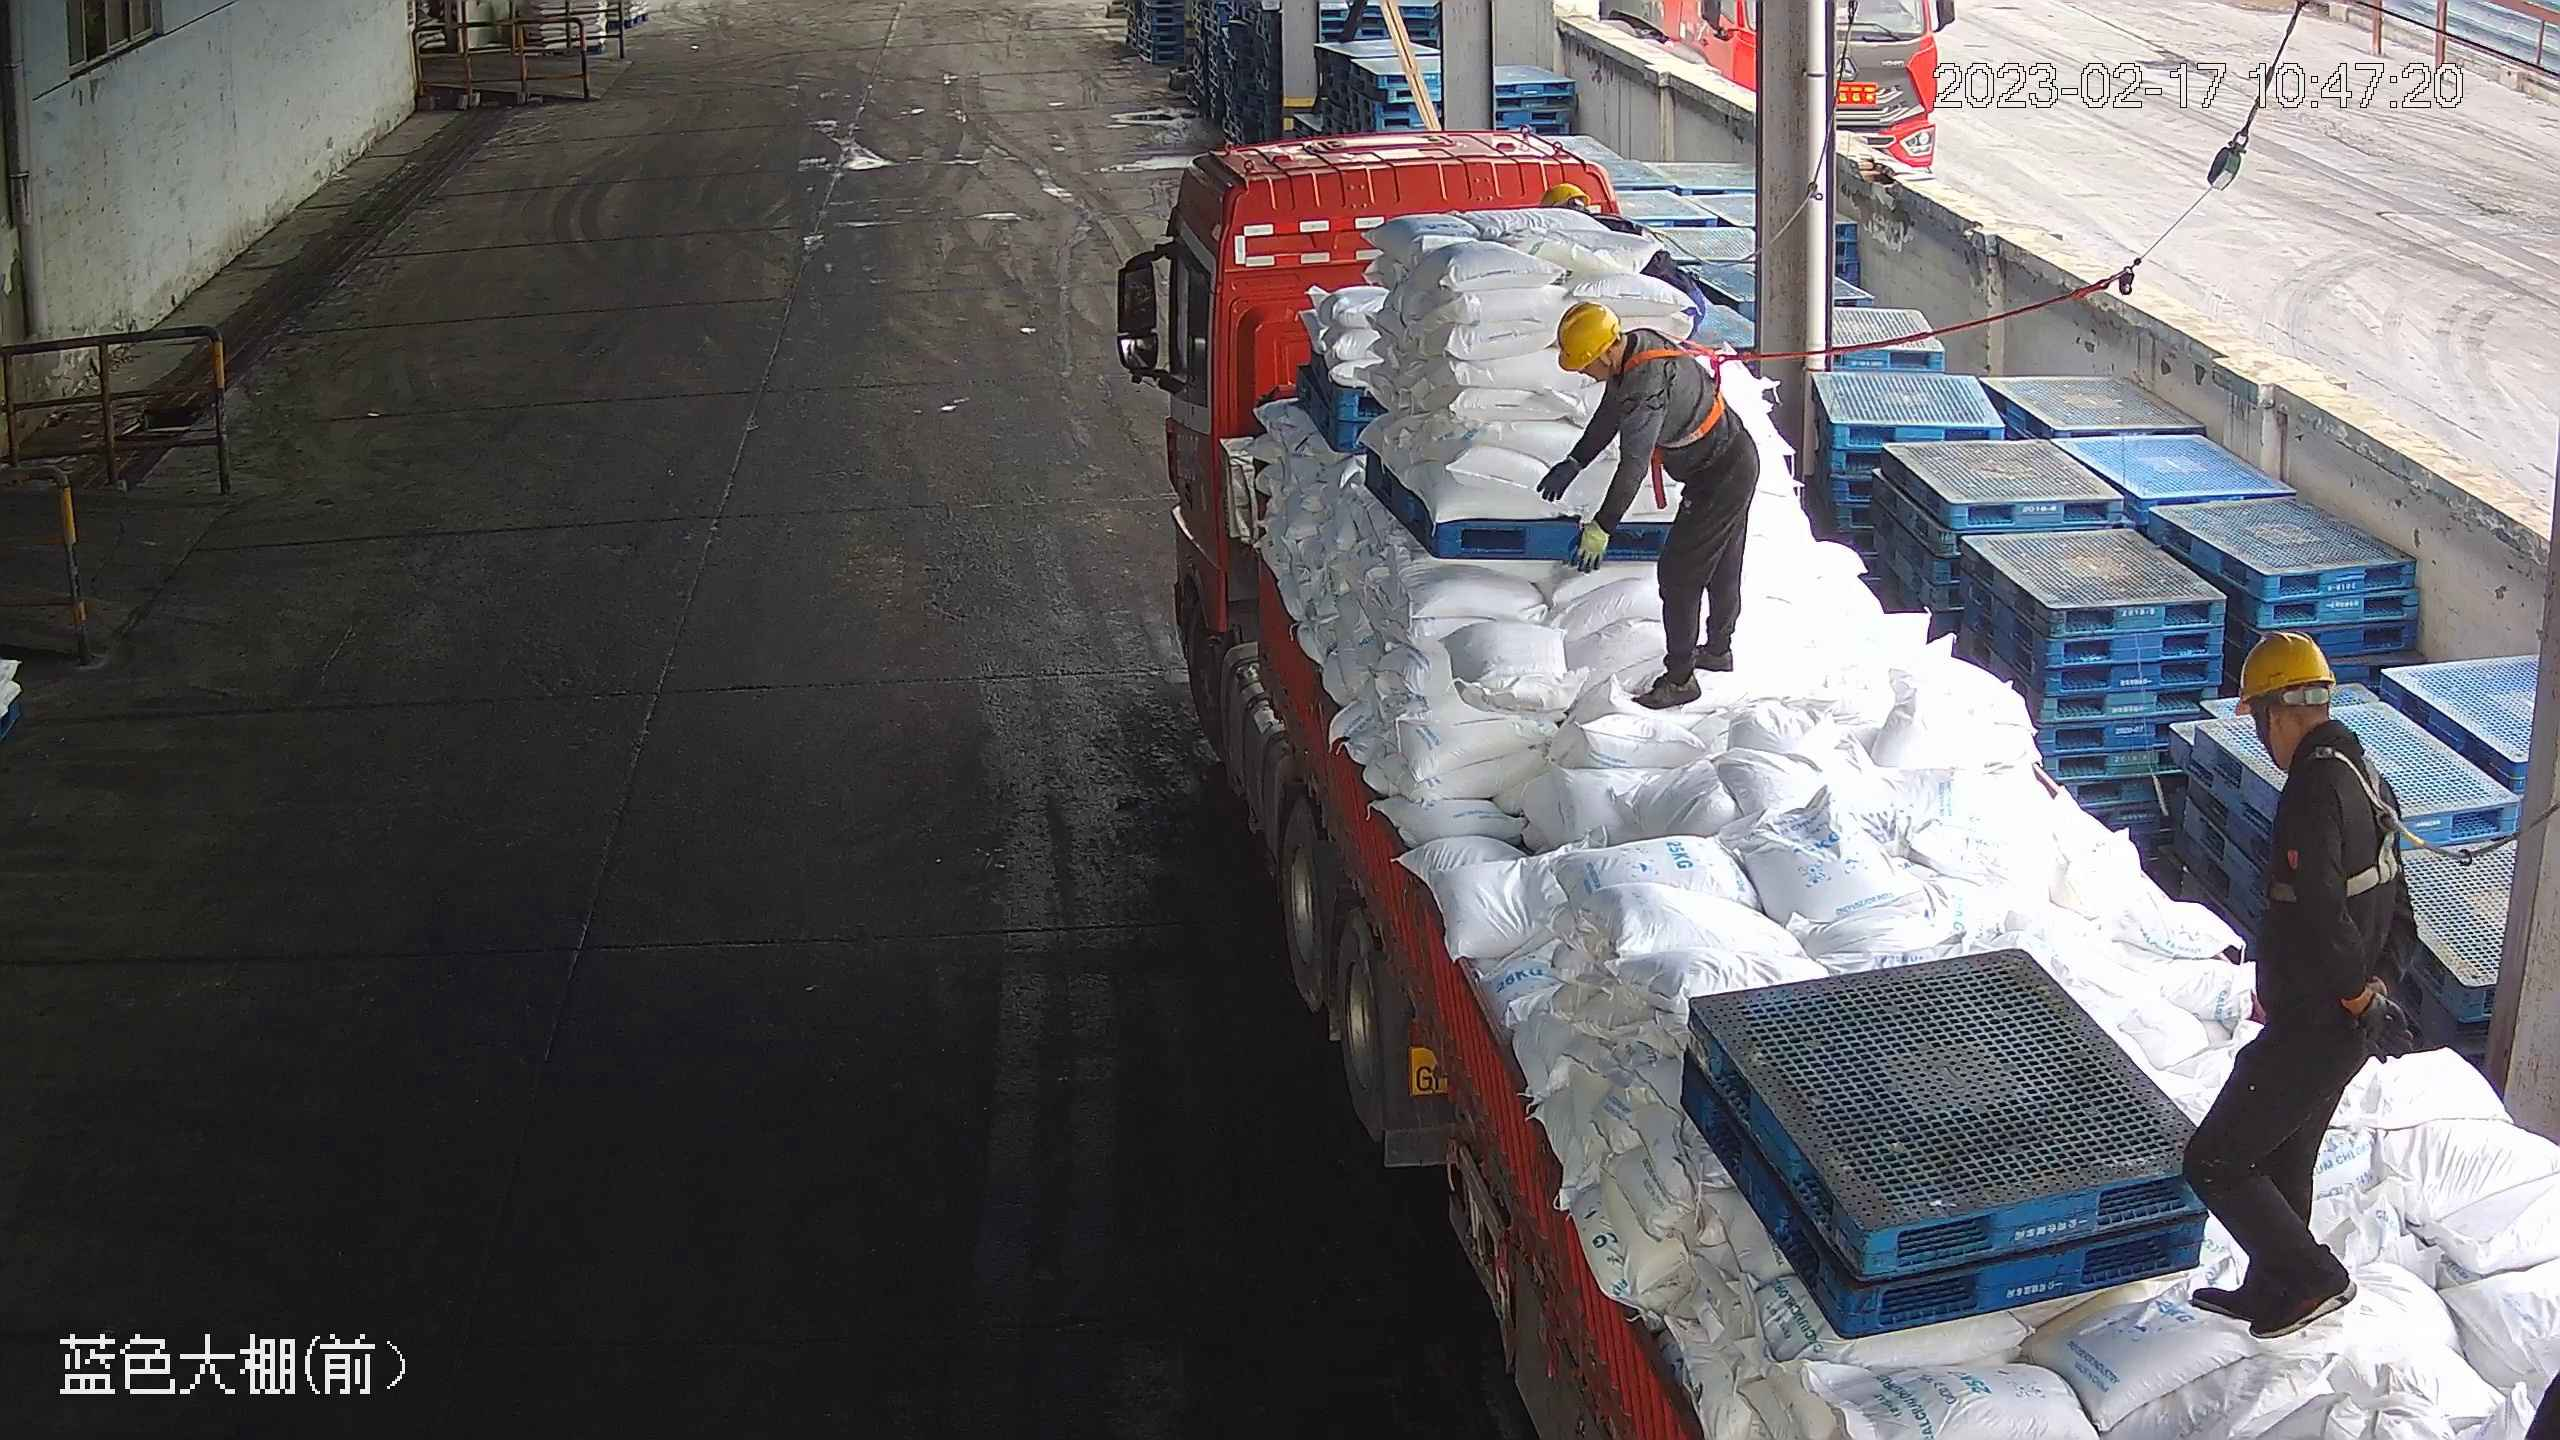belt: (2260, 747, 2421, 905), (1605, 327, 1748, 449)
head: (2232, 626, 2405, 824), (1556, 302, 1705, 403)
helmet: (2230, 628, 2338, 718), (1556, 301, 1620, 372)
people: (2175, 625, 2428, 1339), (1536, 300, 1758, 711)
truck: (1152, 123, 2560, 1440)
